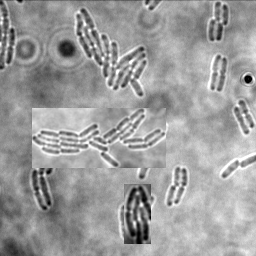Dividing: (175, 167, 189, 204), (238, 99, 255, 128), (209, 54, 222, 90), (217, 56, 228, 92), (7, 27, 17, 64)
Microcolony: (32, 108, 166, 168), (76, 7, 147, 98), (32, 135, 57, 211), (124, 184, 151, 244), (208, 1, 229, 42)
Rod: (233, 106, 251, 135), (222, 157, 240, 178), (167, 184, 177, 206), (174, 166, 183, 187)
